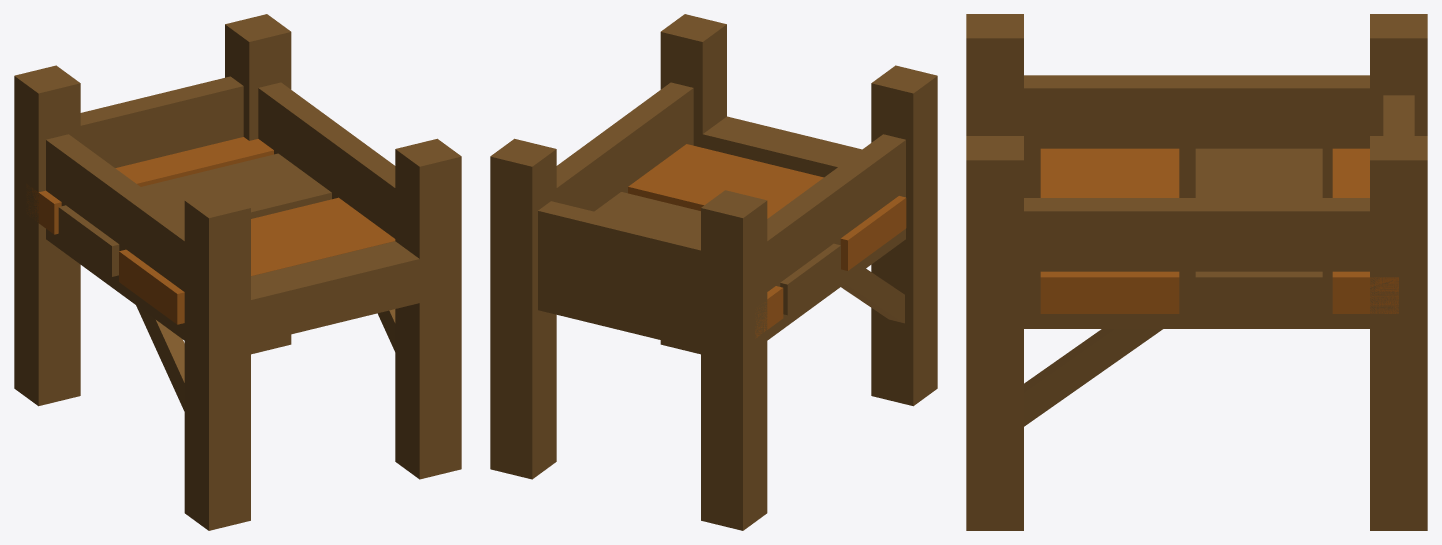
File: DeadEnd.fbx
3 renders of one model, left to right at view 1: azimuth 30°, elevation 25°; view 2: azimuth 150°, elevation 25°; view 3: azimuth 270°, elevation 25°, orthographic. The views are drawn at different scales.
Parts seen in each view (by area): view 1: Bridge - Dead End; view 2: Bridge - Dead End; view 3: Bridge - Dead End.
Part boxes in pixels (left/top/right/bottom): Bridge - Dead End: left=14, top=14, right=461, bottom=530; Bridge - Dead End: left=490, top=14, right=937, bottom=530; Bridge - Dead End: left=966, top=14, right=1427, bottom=530.
Size of the model in its own units: 60 by 70.89 by 80.
